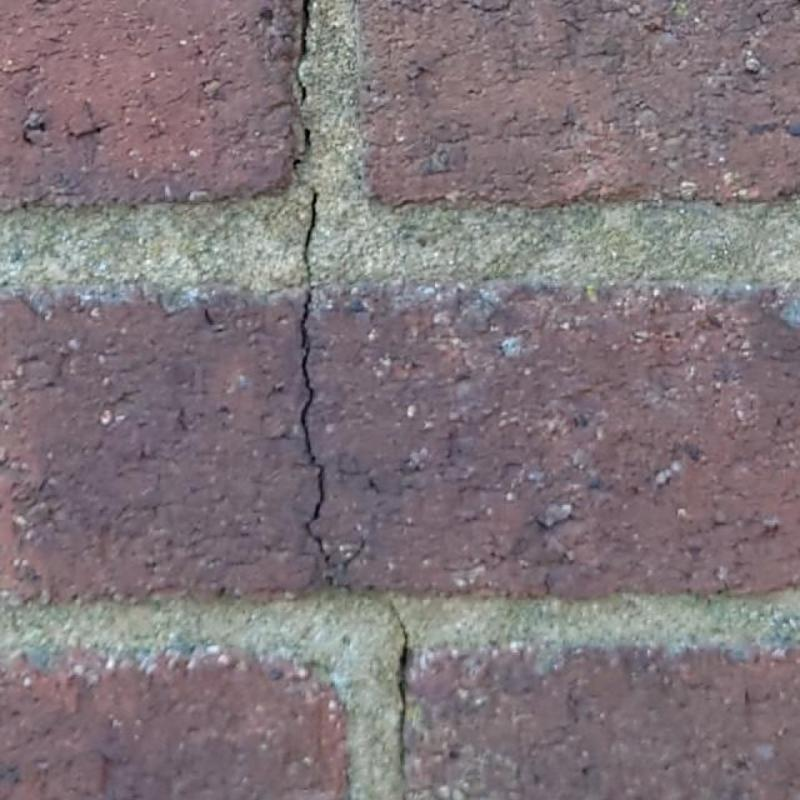pothole: (300, 192, 336, 586), (391, 600, 411, 800), (297, 0, 310, 170)
